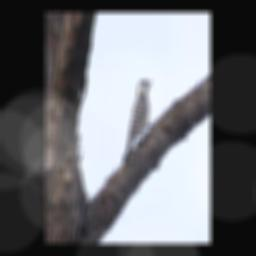Woodpecker: (120, 73, 155, 166)
